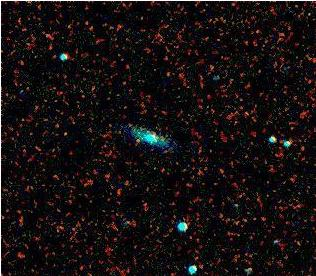star: (122, 126, 152, 156)
